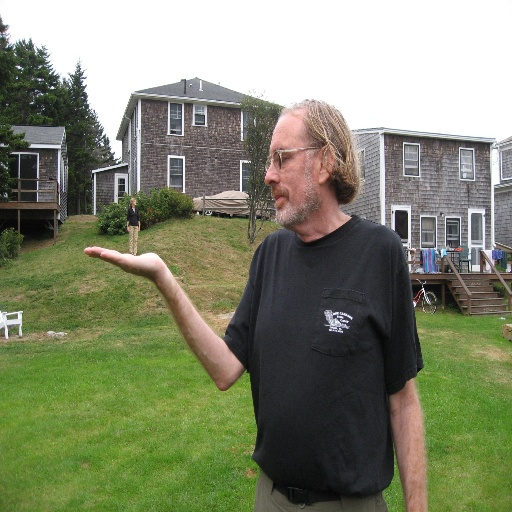hand: (81, 234, 200, 325)
